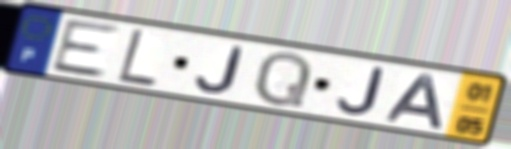A: (382, 73, 446, 132)
E: (47, 18, 125, 81)
J: (193, 44, 247, 96), (334, 65, 387, 117)
L: (114, 26, 159, 89)
Q: (251, 49, 316, 109)
